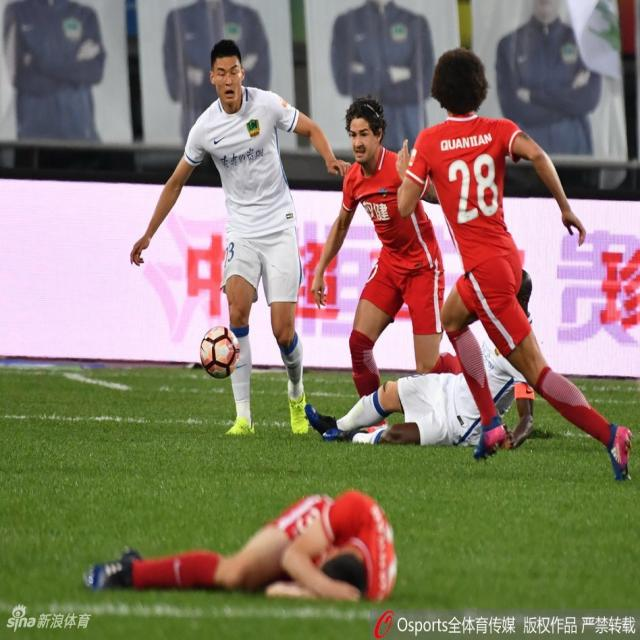Fall: (87, 491, 398, 605)
